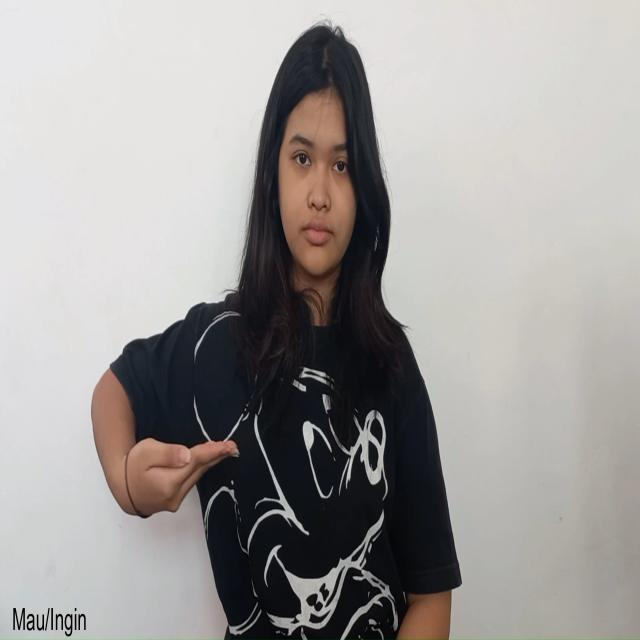Mau-Ingin -BISINDO-: (118, 432, 242, 524)
